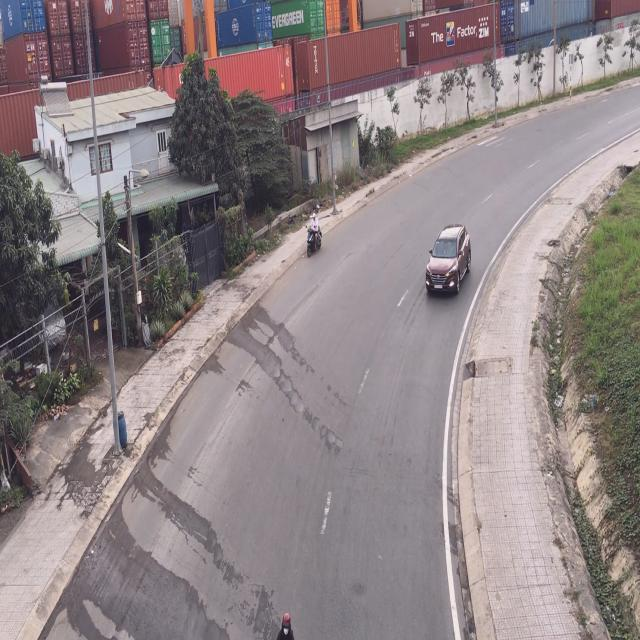car: (422, 226, 469, 299)
motorbike: (305, 214, 325, 261)
